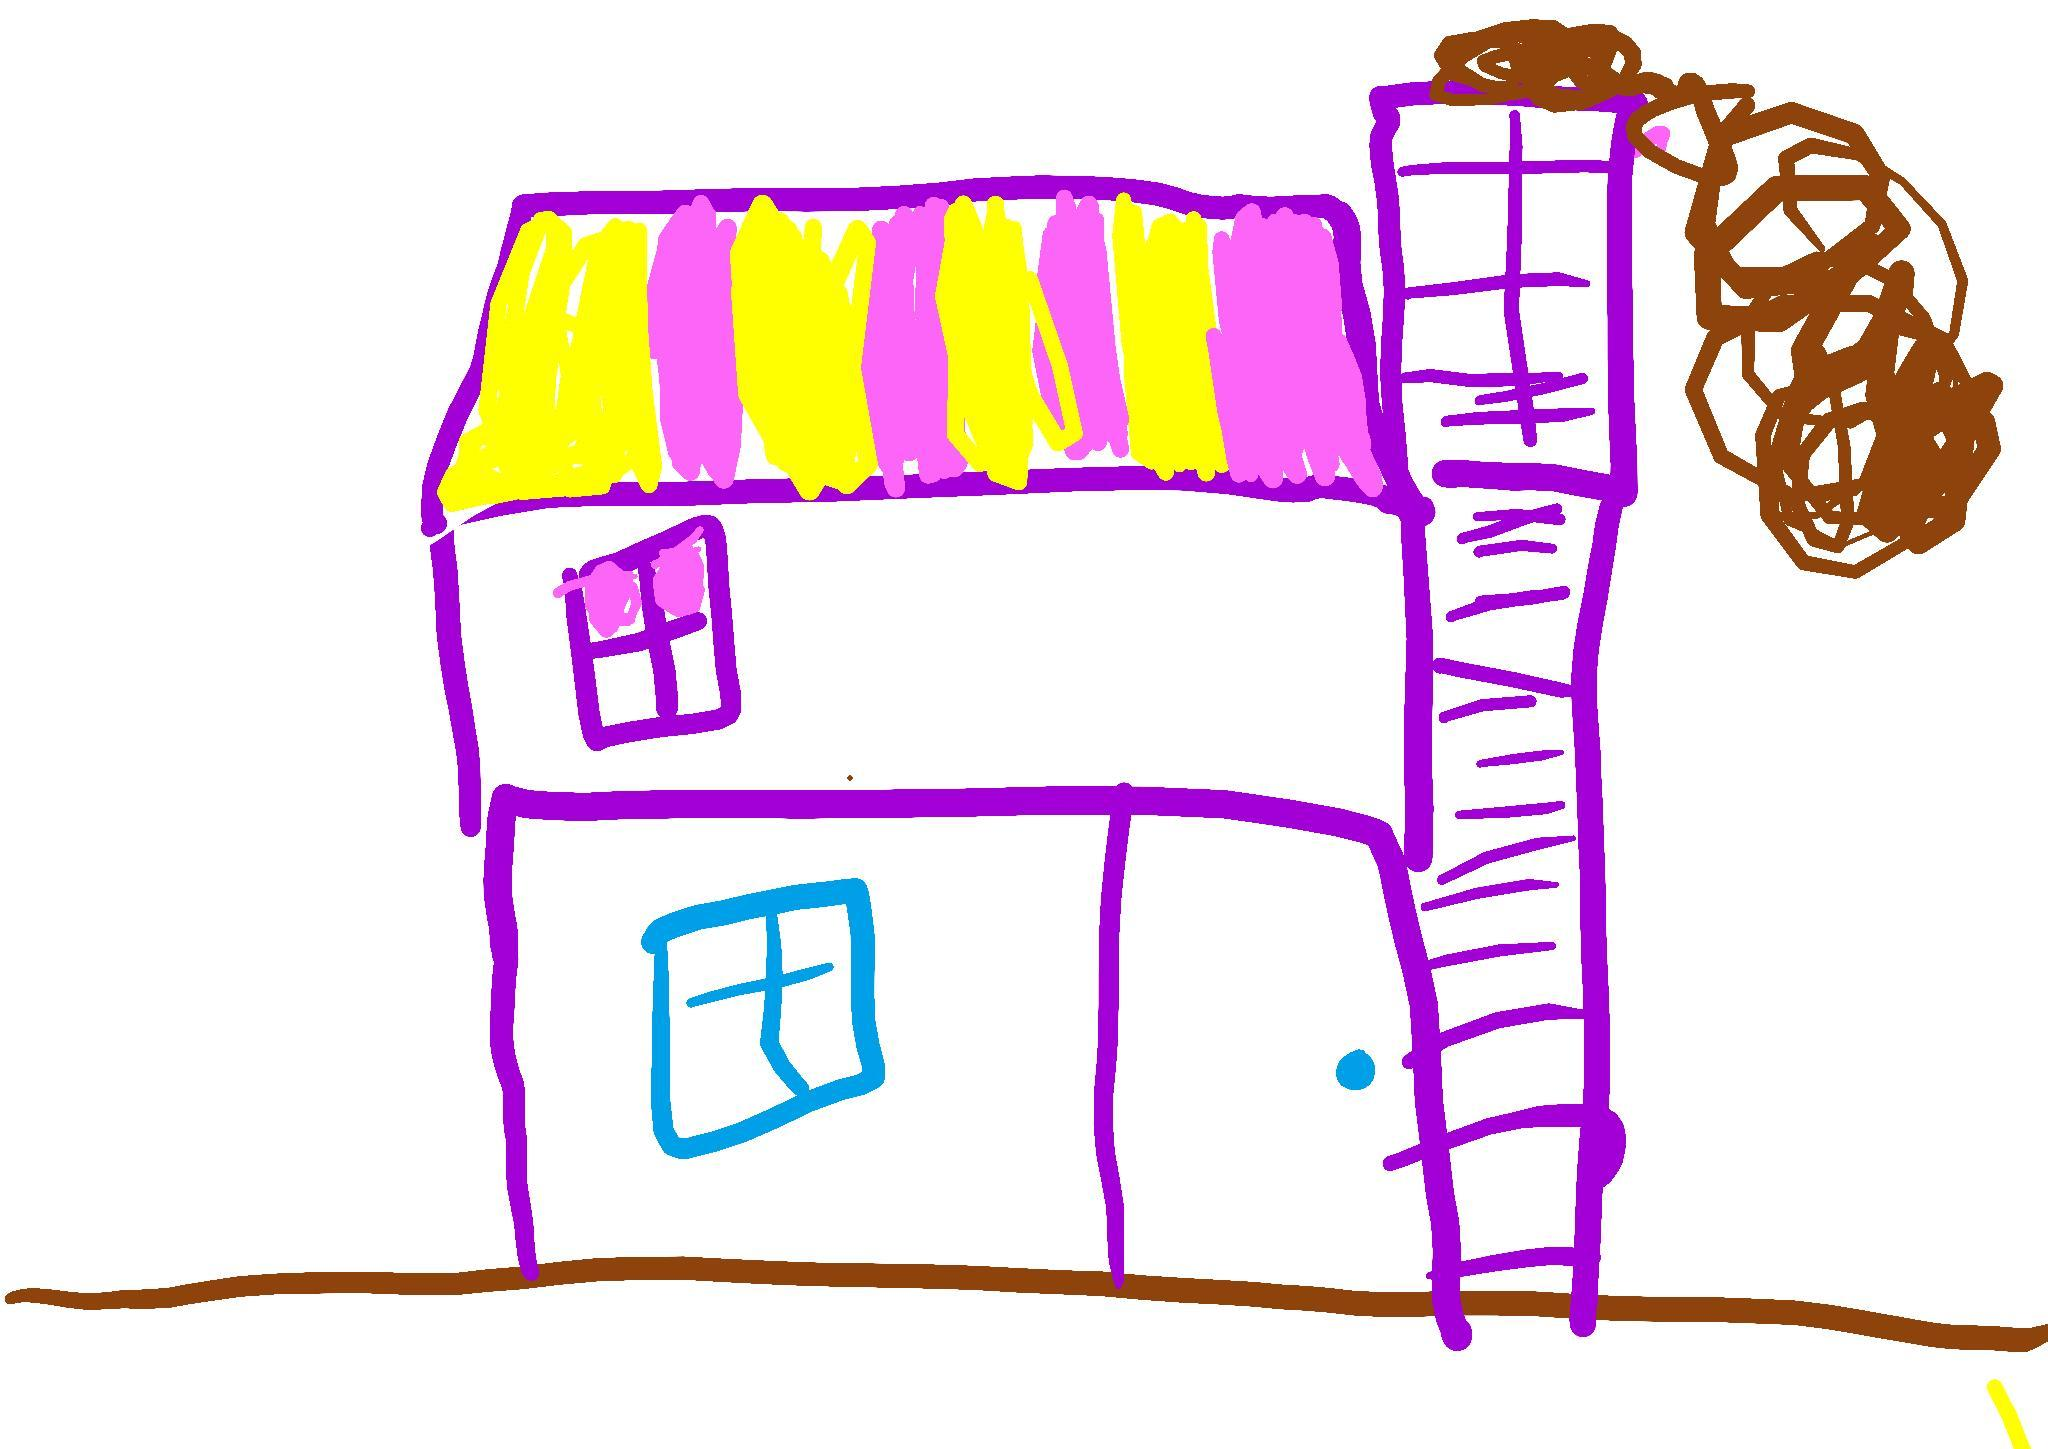chimney: (1374, 80, 1639, 1338)
door: (1117, 820, 1432, 1289)
house: (420, 82, 1639, 1350)
roof: (433, 185, 1389, 511)
wall: (434, 485, 1455, 1291)
window: (641, 880, 884, 1160), (552, 514, 740, 750)
